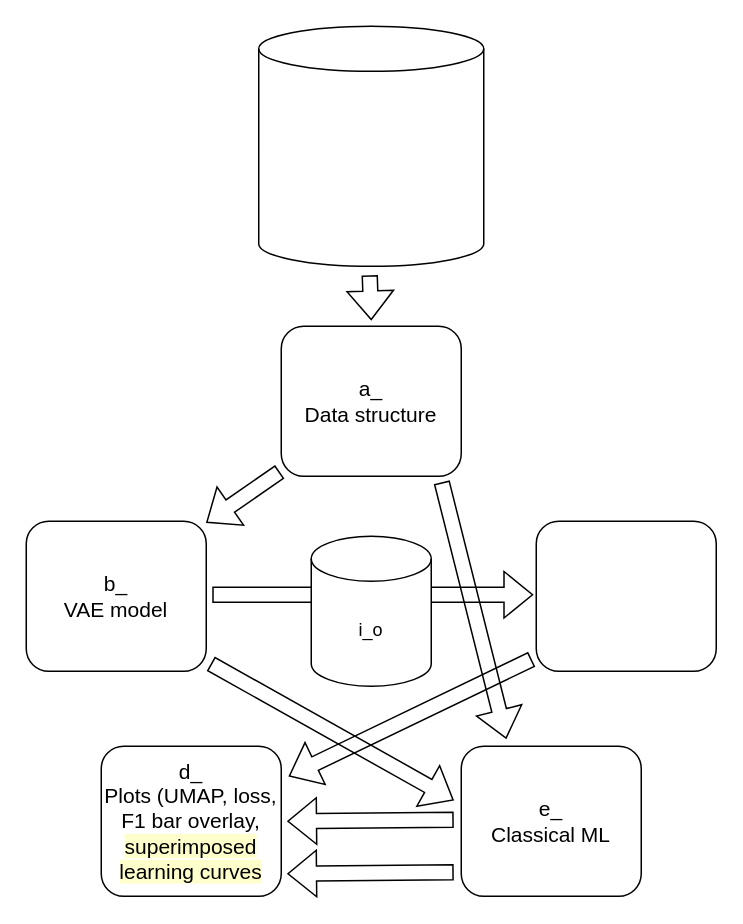
Some shapes in this 743 by 924 pixel diagram are drawn without their labels. Here are the shapes that lost their labels. From the top down, the centre of each, then its label:
At pixel 370 145: "Raw molecular and cross-fold files, five data types".
At pixel 625 595: "c_ Sample generation".
